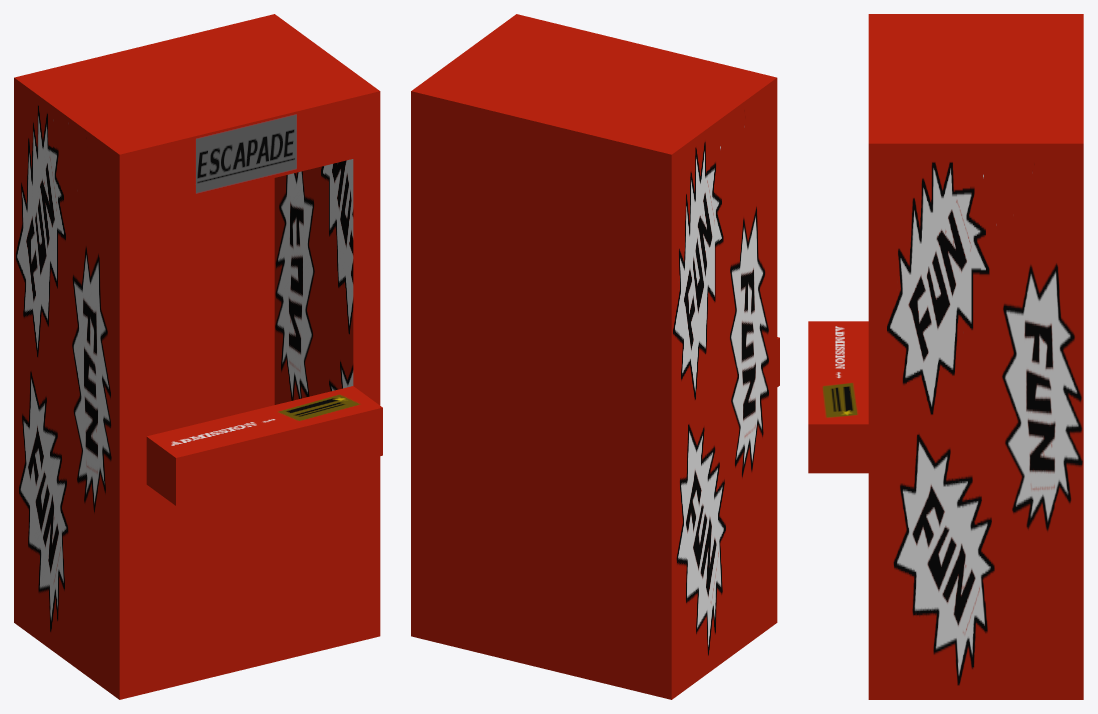
Rendered from model_intro_ticketBooth.fbx.
3 views of the same model, side by side, from view 1: azimuth 30°, elevation 25°; view 2: azimuth 150°, elevation 25°; view 3: azimuth 270°, elevation 25° (orthographic). The views are drawn at different scales.
Parts seen in each view (by area): view 1: Cube; view 2: Cube; view 3: Cube.
Boxes of the visible parts, x1,y1,x2,y2 form: Cube: (14,14,382,699); Cube: (411,14,779,699); Cube: (808,14,1083,699).
Bounding box in the file's own units: 2.85 × 5.71 × 2.56.
